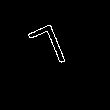L_SE: (30, 22, 77, 80)
